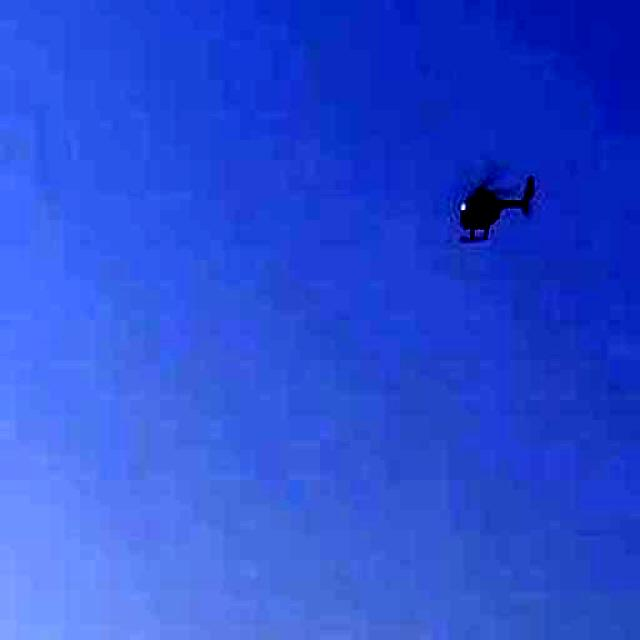drone: (415, 115, 565, 279)
